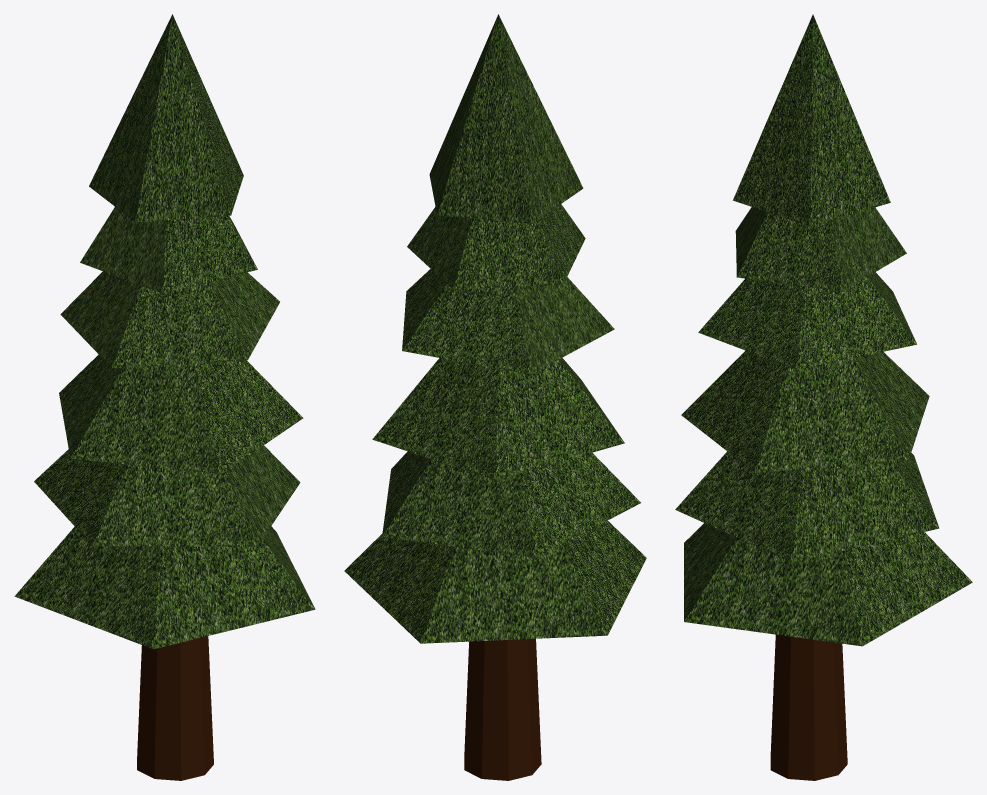
The model's file is hillTree1.obj.
3 views of the same model, side by side, from view 1: azimuth 30°, elevation 25°; view 2: azimuth 150°, elevation 25°; view 3: azimuth 270°, elevation 25° (orthographic).
Parts seen in each view (by area): view 1: Cone.005, wood_Cylinder.001; view 2: Cone.005, wood_Cylinder.001; view 3: Cone.005, wood_Cylinder.001.
Boxes of the visible parts, left/top/right/bottom form: Cone.005: left=14, top=14, right=315, bottom=649; wood_Cylinder.001: left=137, top=636, right=213, bottom=780; Cone.005: left=344, top=14, right=646, bottom=643; wood_Cylinder.001: left=464, top=638, right=541, bottom=780; Cone.005: left=675, top=14, right=972, bottom=646; wood_Cylinder.001: left=770, top=634, right=847, bottom=780.
Size of the model in its own units: 1.41 by 3.85 by 1.38.
2 materials, 2 textured.
